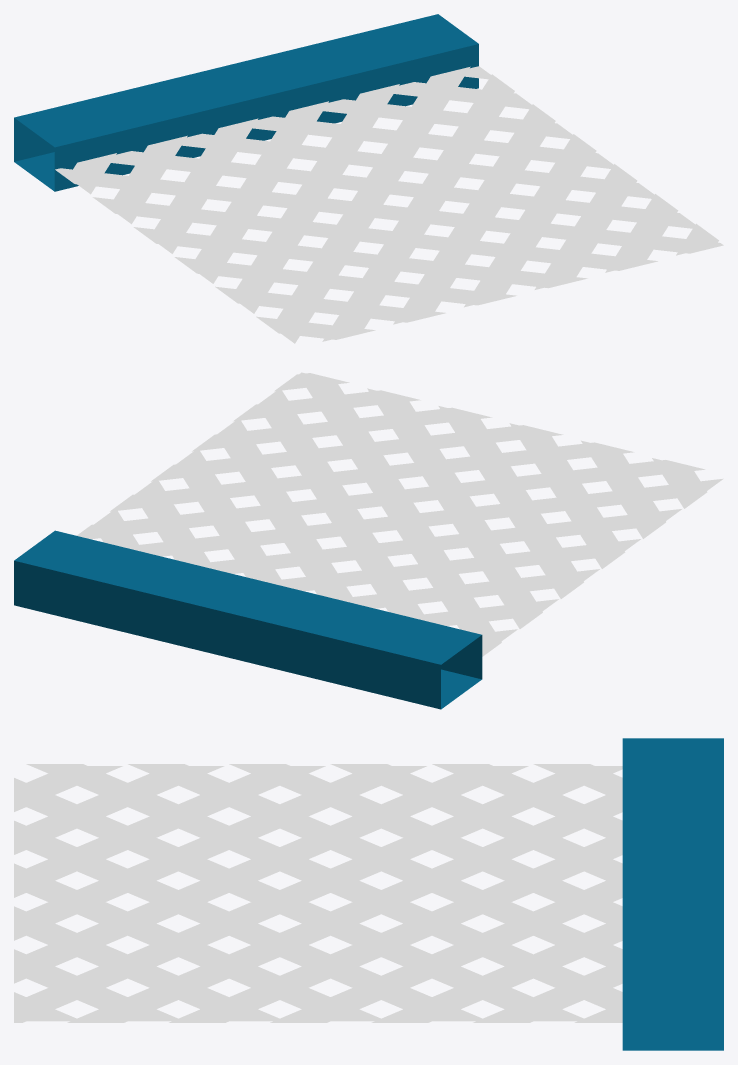
File: G02_024_Floor_Mesh_WSD.fbx
3 renders of one model, top to bottom at view 1: azimuth 30°, elevation 25°; view 2: azimuth 150°, elevation 25°; view 3: azimuth 270°, elevation 25°, orthographic. The views are drawn at different scales.
Visible parts, largest first — view 1: 平面.005, 009_Mesh_WS_B.001; view 2: 平面.005, 009_Mesh_WS_B.001; view 3: 平面.005, 009_Mesh_WS_B.001.
Part boxes in pixels (x1,y1,x2,y2): 平面.005: [55, 66, 723, 343]; 009_Mesh_WS_B.001: [14, 14, 478, 191]; 平面.005: [77, 372, 723, 656]; 009_Mesh_WS_B.001: [14, 530, 482, 709]; 平面.005: [14, 764, 622, 1022]; 009_Mesh_WS_B.001: [622, 738, 723, 1050].
Bounding box in the file's own units: 300 × 30 × 350.
